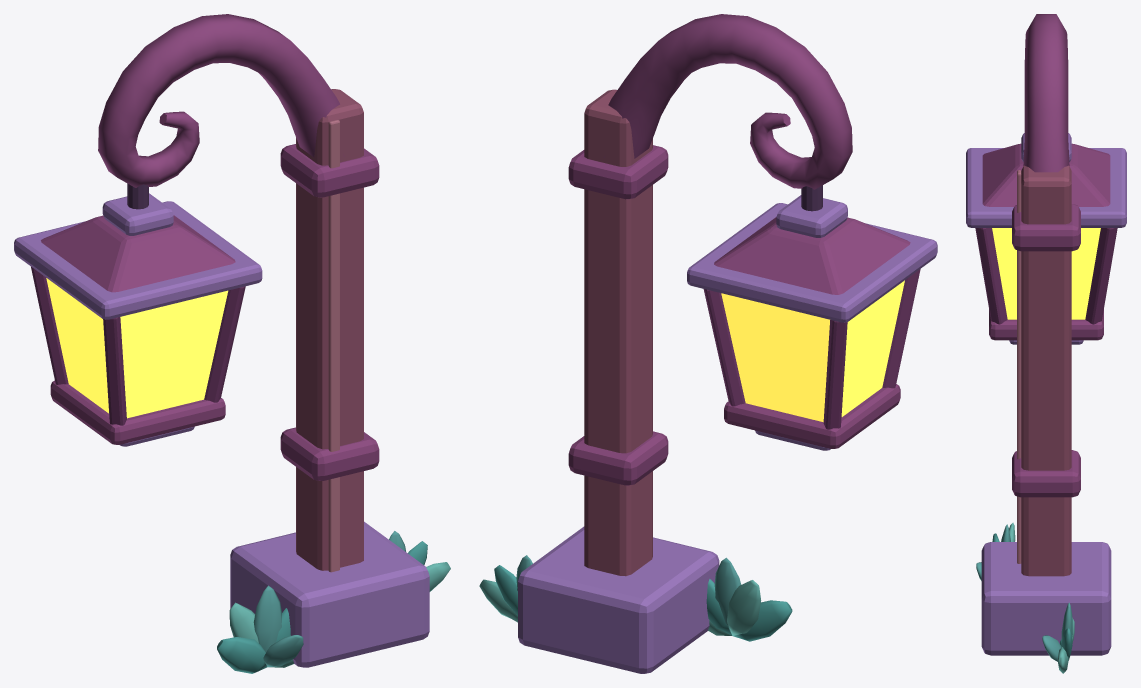
Rendered from lantern_post_REMADE.glb.
3 views of the same model, side by side, from view 1: azimuth 30°, elevation 25°; view 2: azimuth 150°, elevation 25°; view 3: azimuth 270°, elevation 25° (orthographic). The views are drawn at different scales.
Parts seen in each view (by area): view 1: lantern_post_REMADE_visual; view 2: lantern_post_REMADE_visual; view 3: lantern_post_REMADE_visual.
Boxes of the visible parts, x1,y1,x2,y2 form: lantern_post_REMADE_visual: (14,14,450,673); lantern_post_REMADE_visual: (479,14,937,673); lantern_post_REMADE_visual: (966,14,1126,673).
Size of the model in its own units: 1.93 by 2.93 by 0.77.
